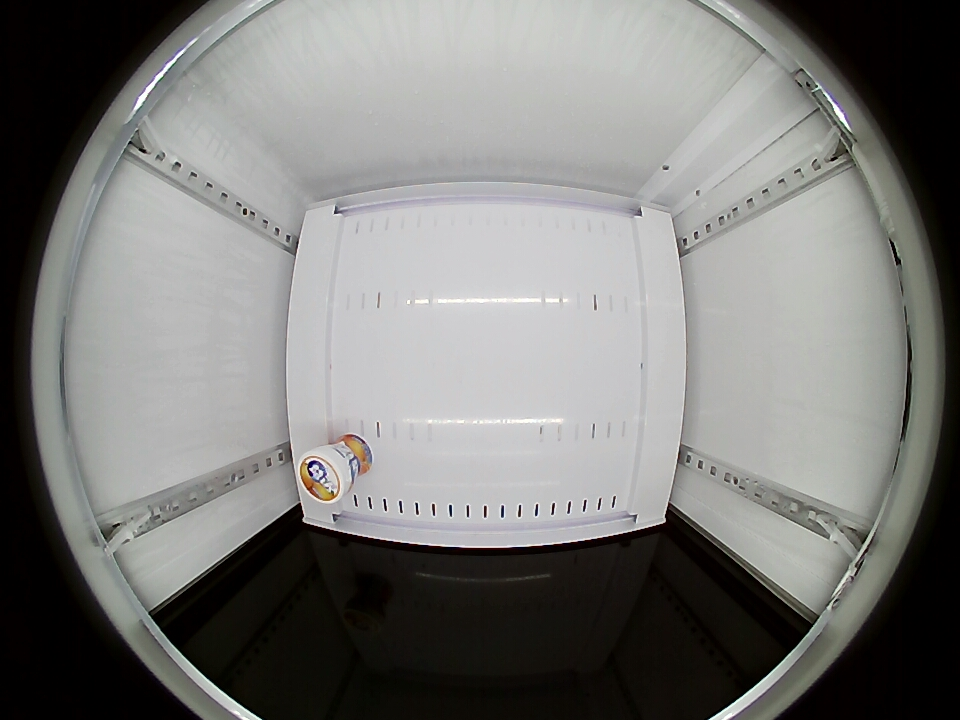yida: (297, 445, 357, 505)
